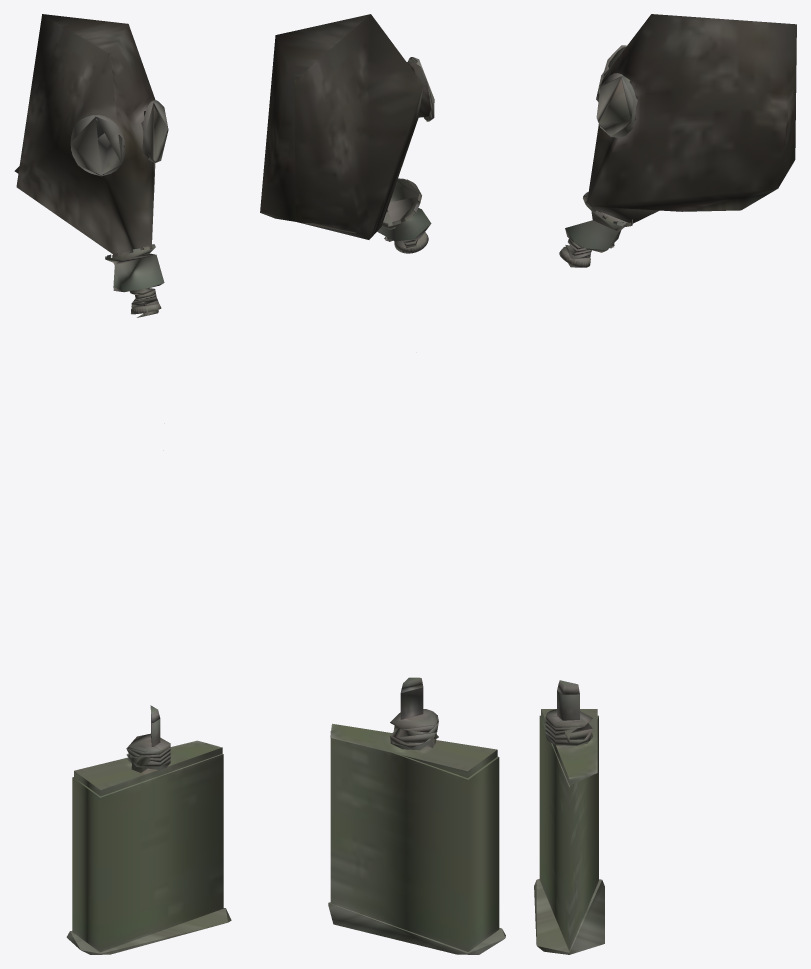
File: gasMask_lo.glb
3 renders of one model, left to right at view 1: azimuth 30°, elevation 25°; view 2: azimuth 150°, elevation 25°; view 3: azimuth 270°, elevation 25°, orthographic. The views are drawn at different scales.
Parts seen in each view (by area): view 1: old_gas_mask; view 2: old_gas_mask; view 3: old_gas_mask.
Boxes of the visible parts, box(x1,y1,x2,y2) form: old_gas_mask: box(14, 14, 231, 954); old_gas_mask: box(260, 14, 505, 954); old_gas_mask: box(534, 14, 796, 954).
Bounding box in the file's own units: 0.2072 × 1.1 × 0.2914.
1 material, 1 textured.
